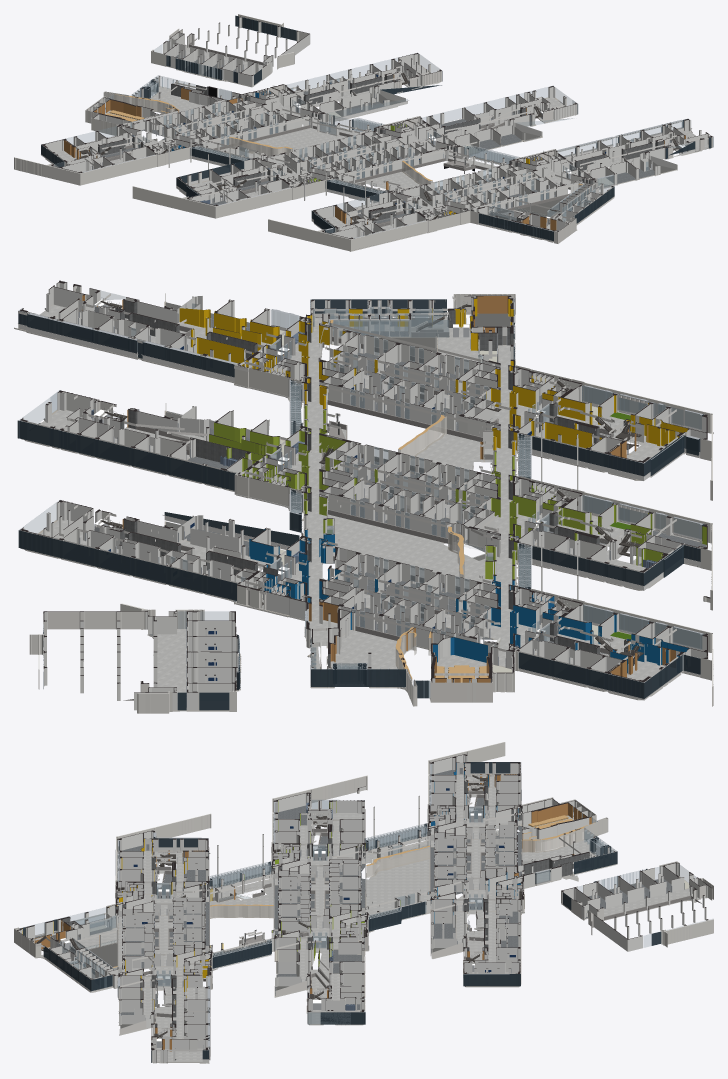
File: floor_1.glb
The picture shows the model from 3 angles, top to bottom: view 1: azimuth 30°, elevation 25°; view 2: azimuth 150°, elevation 25°; view 3: azimuth 270°, elevation 25°; orthographic projection. The views are drawn at different scales.
Parts seen in each view (by area): view 1: wall_paint, glass, grc_screen, bulkhead, wall_top, floor_granite, glass_ext, granite_dark, wall_granite, floor_vinyl, frame, wall_ext (+11 smaller); view 2: wall_paint, floor_granite, glass_ext, glass, bulkhead, wall_top, grc_screen, wall_accent_C, wall_granite, wall_accent_B, granite_dark, wall_accent_A (+14 smaller); view 3: wall_paint, floor_granite, wall_top, glass, glass_ext, bulkhead, floor_vinyl, grc_screen, granite_dark, frame, mashrabiya, wall_granite (+10 smaller).
Part boxes in pixels (x1=…): wall_paint: x1=45, y1=16, x2=713, y2=239; glass: x1=54, y1=40, x2=713, y2=236; grc_screen: x1=14, y1=14, x2=576, y2=251; bulkhead: x1=47, y1=59, x2=708, y2=234; wall_top: x1=42, y1=16, x2=712, y2=238; floor_granite: x1=55, y1=44, x2=708, y2=236; glass_ext: x1=41, y1=15, x2=711, y2=241; granite_dark: x1=41, y1=38, x2=691, y2=241; wall_granite: x1=90, y1=75, x2=669, y2=223; floor_vinyl: x1=101, y1=55, x2=708, y2=248; frame: x1=41, y1=22, x2=713, y2=238; wall_ext: x1=42, y1=29, x2=708, y2=231; wall_paint: x1=20, y1=282, x2=707, y2=700; floor_granite: x1=39, y1=304, x2=697, y2=709; glass_ext: x1=17, y1=281, x2=704, y2=710; glass: x1=20, y1=291, x2=703, y2=697; bulkhead: x1=18, y1=286, x2=684, y2=679; wall_top: x1=20, y1=280, x2=710, y2=692; grc_screen: x1=29, y1=294, x2=713, y2=713; wall_accent_C: x1=179, y1=298, x2=688, y2=454; wall_granite: x1=115, y1=300, x2=629, y2=667; wall_accent_B: x1=209, y1=405, x2=706, y2=579; granite_dark: x1=18, y1=308, x2=702, y2=700; wall_accent_A: x1=249, y1=529, x2=688, y2=673; wall_paint: x1=18, y1=755, x2=709, y2=1062; floor_granite: x1=38, y1=774, x2=699, y2=1061; wall_top: x1=17, y1=754, x2=711, y2=1050; glass: x1=35, y1=765, x2=712, y2=1055; glass_ext: x1=23, y1=762, x2=661, y2=1062; bulkhead: x1=22, y1=767, x2=616, y2=1051; floor_vinyl: x1=35, y1=768, x2=691, y2=1060; grc_screen: x1=14, y1=742, x2=713, y2=988; granite_dark: x1=35, y1=773, x2=701, y2=1059; frame: x1=19, y1=756, x2=689, y2=1050; mashrabiya: x1=113, y1=827, x2=585, y2=970; wall_granite: x1=50, y1=781, x2=589, y2=1033.
Bounding box in the file's own units: 243 × 15.3 × 233.
49 materials, 11 textured.
